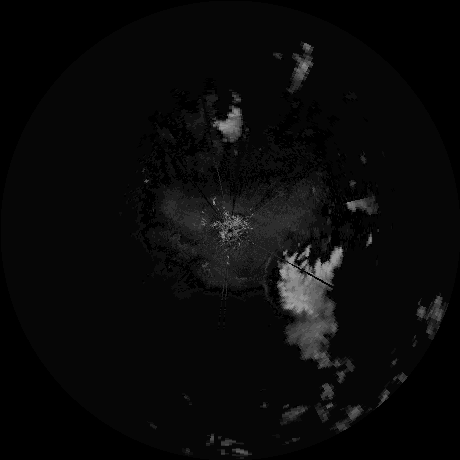frontgust: (262, 252, 275, 306)
